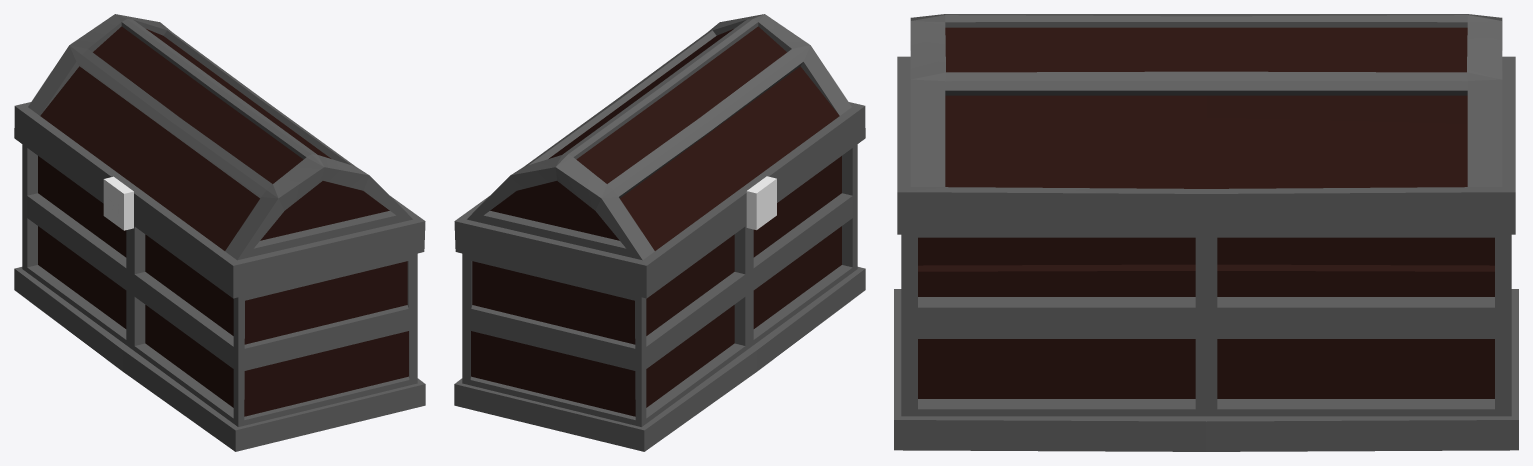
Rendered from chest.fbx.
The picture shows the model from 3 angles, left to right: view 1: azimuth 30°, elevation 25°; view 2: azimuth 150°, elevation 25°; view 3: azimuth 270°, elevation 25°; orthographic projection. The views are drawn at different scales.
Visible parts, largest first — view 1: chest (×2), lock; view 2: chest (×2), lock; view 3: chest (×2).
Boxes of the visible parts, box(x1,y1,x2,y2) form: chest (×2): box(14, 14, 425, 451); lock: box(103, 176, 133, 230); chest (×2): box(454, 14, 865, 451); lock: box(746, 176, 776, 230); chest (×2): box(894, 14, 1518, 451).
Size of the model in its own units: 0.7062 by 0.866 by 1.33.
